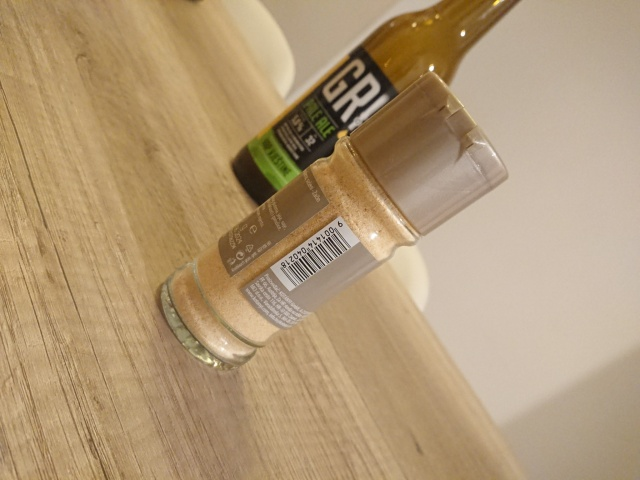Kotanyi Garlic Granules 70g: (152, 67, 513, 378)
